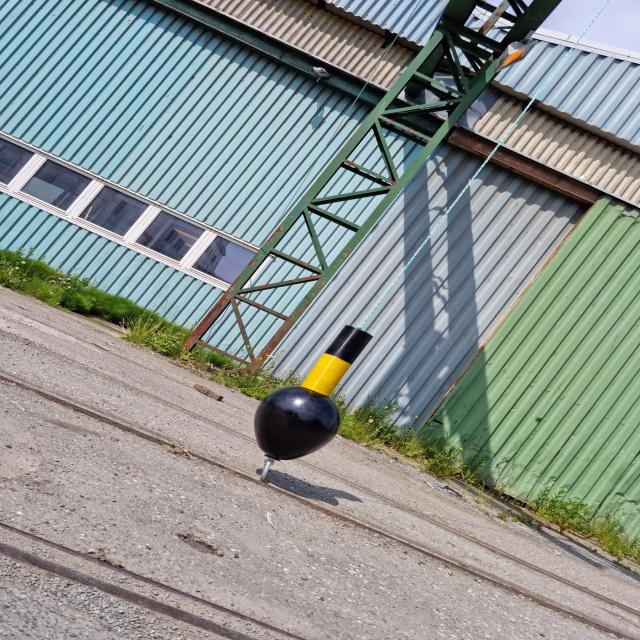east: (253, 324, 374, 460)
